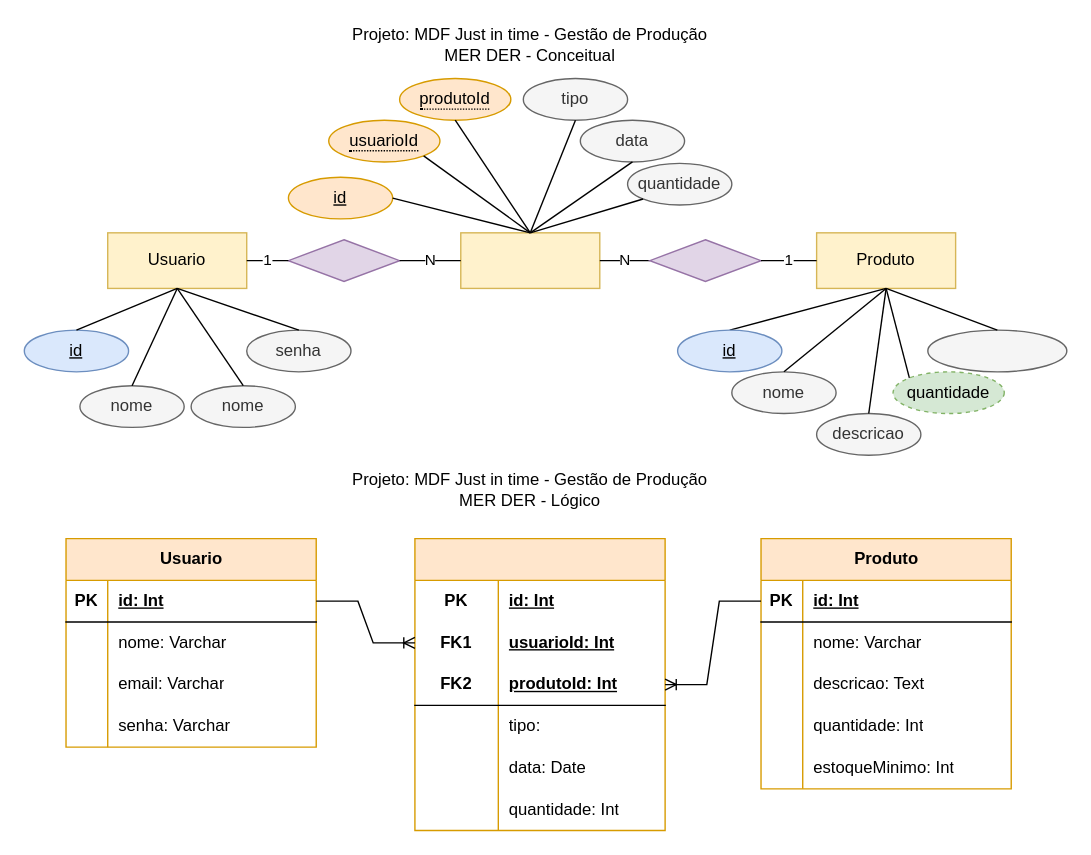
Image size: 1091x855. Some labels were removed from this diagram. The box of each missing label's shape, as (x1, y1, x2, y2) in pixels:
estoqueMinimo: (926, 329, 1067, 372)
movimenta: (287, 238, 400, 281)
Produca o: (459, 231, 600, 288)
produz: (648, 238, 761, 281)
Table: (414, 537, 665, 831)
